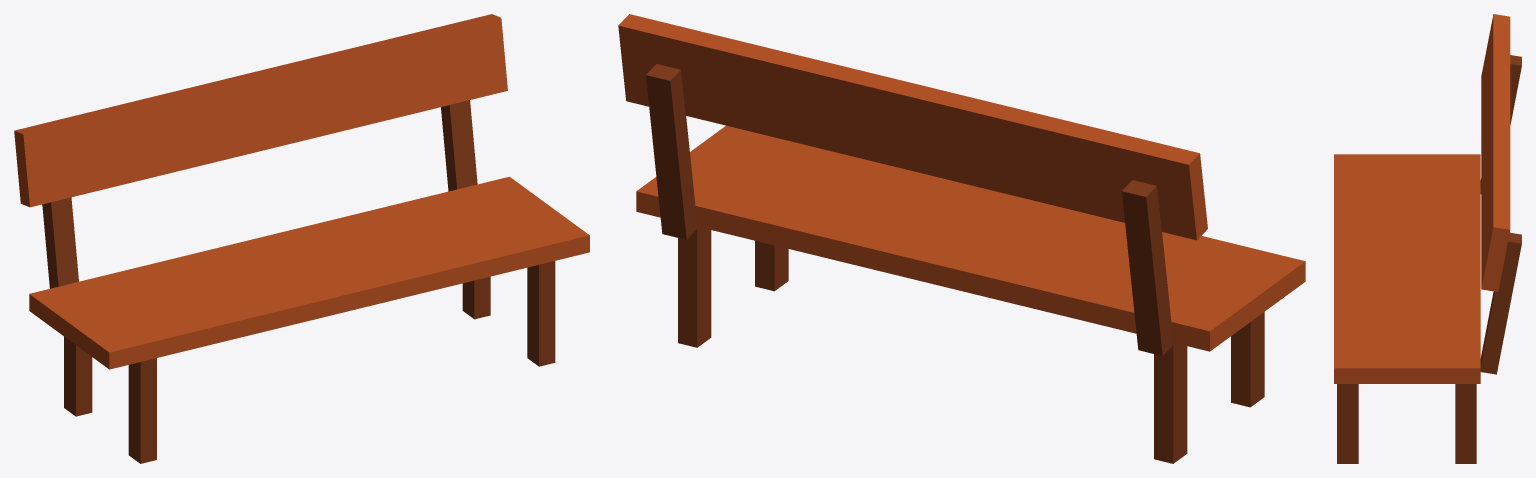
The model's file is bench.fbx.
3 views of the same model, side by side, from view 1: azimuth 30°, elevation 25°; view 2: azimuth 150°, elevation 25°; view 3: azimuth 270°, elevation 25° (orthographic). The views are drawn at different scales.
Visible parts, largest first — view 1: prop_bench; view 2: prop_bench; view 3: prop_bench.
Part boxes in pixels (left/top/right/bottom): prop_bench: left=14, top=14, right=589, bottom=463; prop_bench: left=618, top=14, right=1305, bottom=463; prop_bench: left=1334, top=14, right=1521, bottom=463.
Bounding box in the file's own units: 171 × 93.59 × 63.54.
